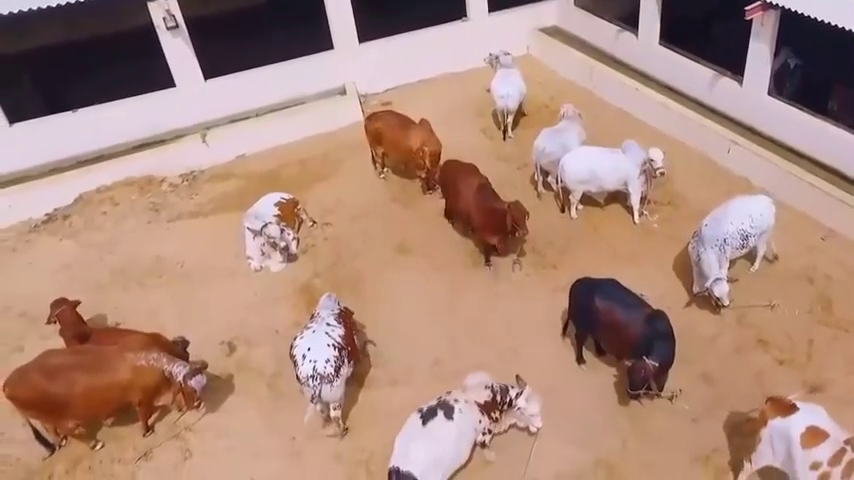bo: (5, 342, 206, 448), (388, 371, 556, 477), (557, 266, 684, 403), (432, 145, 540, 280), (679, 182, 779, 320), (40, 284, 201, 358), (733, 386, 854, 480), (292, 290, 361, 433), (556, 140, 674, 217), (232, 177, 319, 265), (358, 100, 437, 184), (524, 100, 582, 196), (468, 40, 526, 136)
